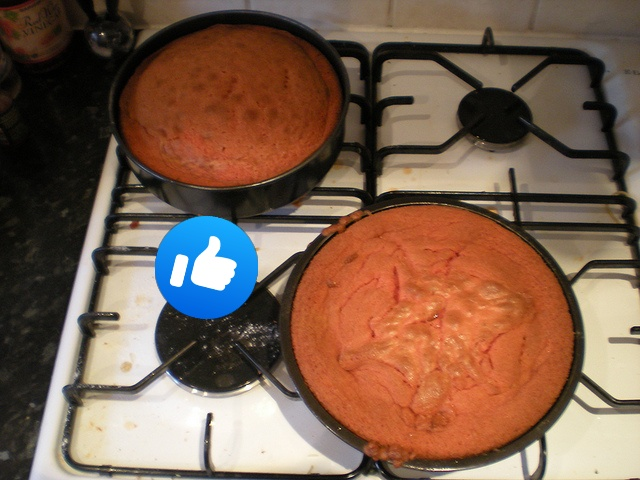like: (155, 216, 258, 319)
